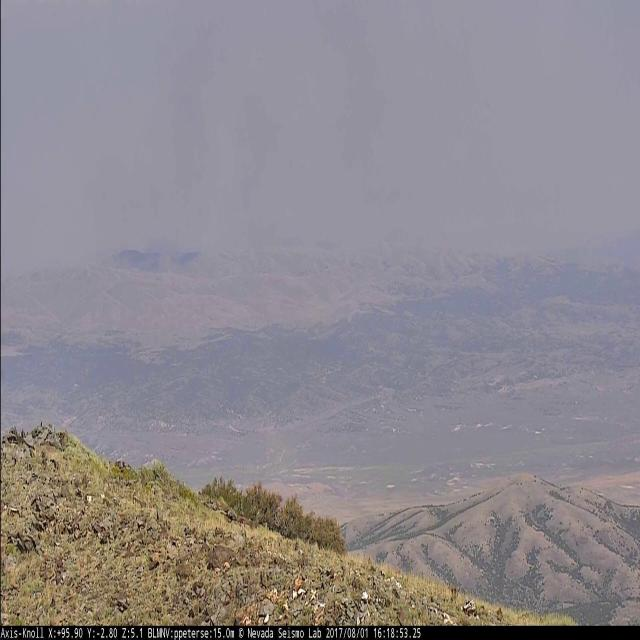smoke: (105, 0, 403, 275)
